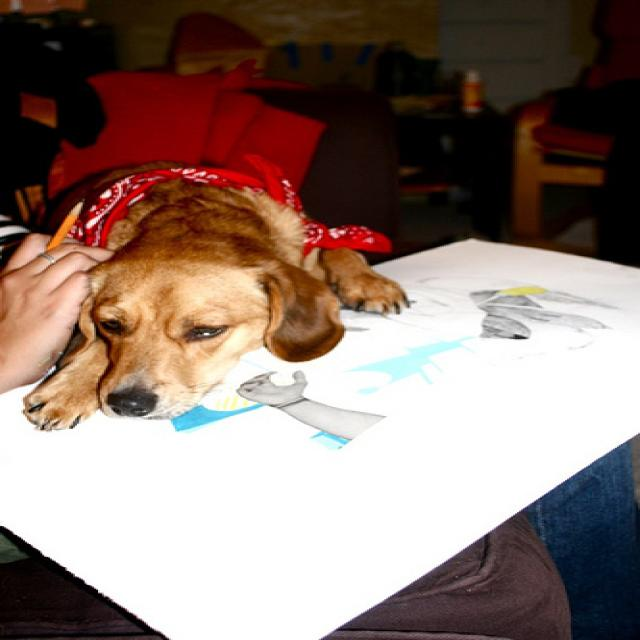dog-beagle: (17, 143, 427, 430)
